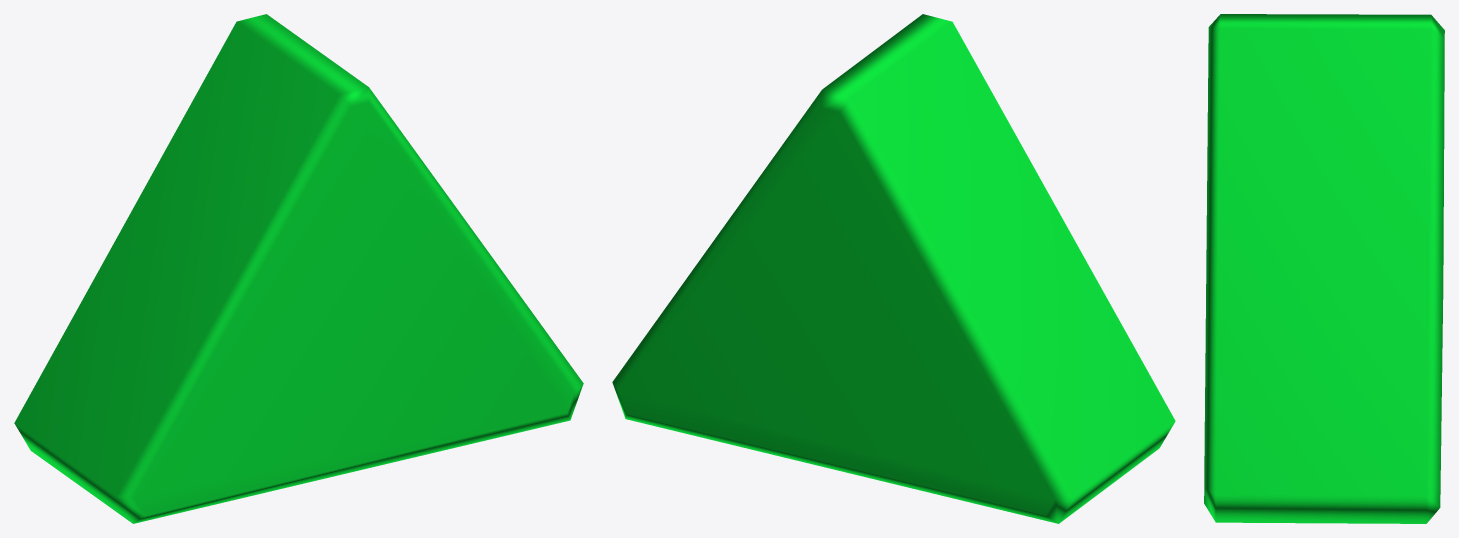
The model's file is Item_Triangle.fbx.
3 renders of one model, left to right at view 1: azimuth 30°, elevation 25°; view 2: azimuth 150°, elevation 25°; view 3: azimuth 270°, elevation 25°, orthographic. The views are drawn at different scales.
Parts seen in each view (by area): view 1: Item_Triangle; view 2: Item_Triangle; view 3: Item_Triangle.
Part boxes in pixels (bbox=[...]): Item_Triangle: bbox=[14, 14, 583, 523]; Item_Triangle: bbox=[612, 14, 1175, 523]; Item_Triangle: bbox=[1204, 14, 1444, 523].
Bounding box in the file's own units: 63.11 × 49.4 × 27.28.
